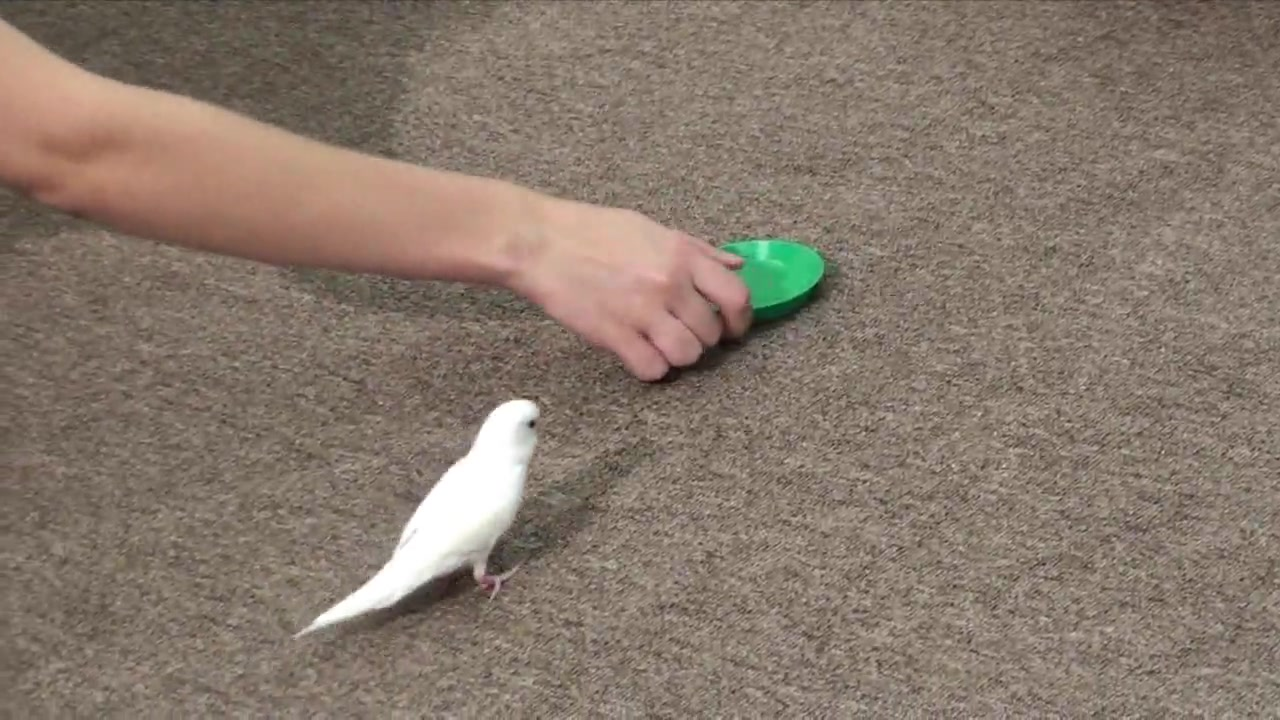bird: (293, 399, 544, 641)
